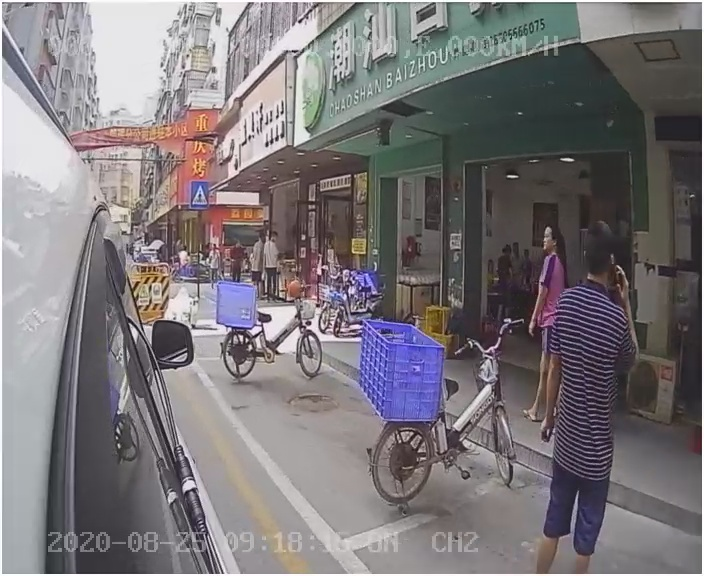person: (532, 240, 645, 565)
